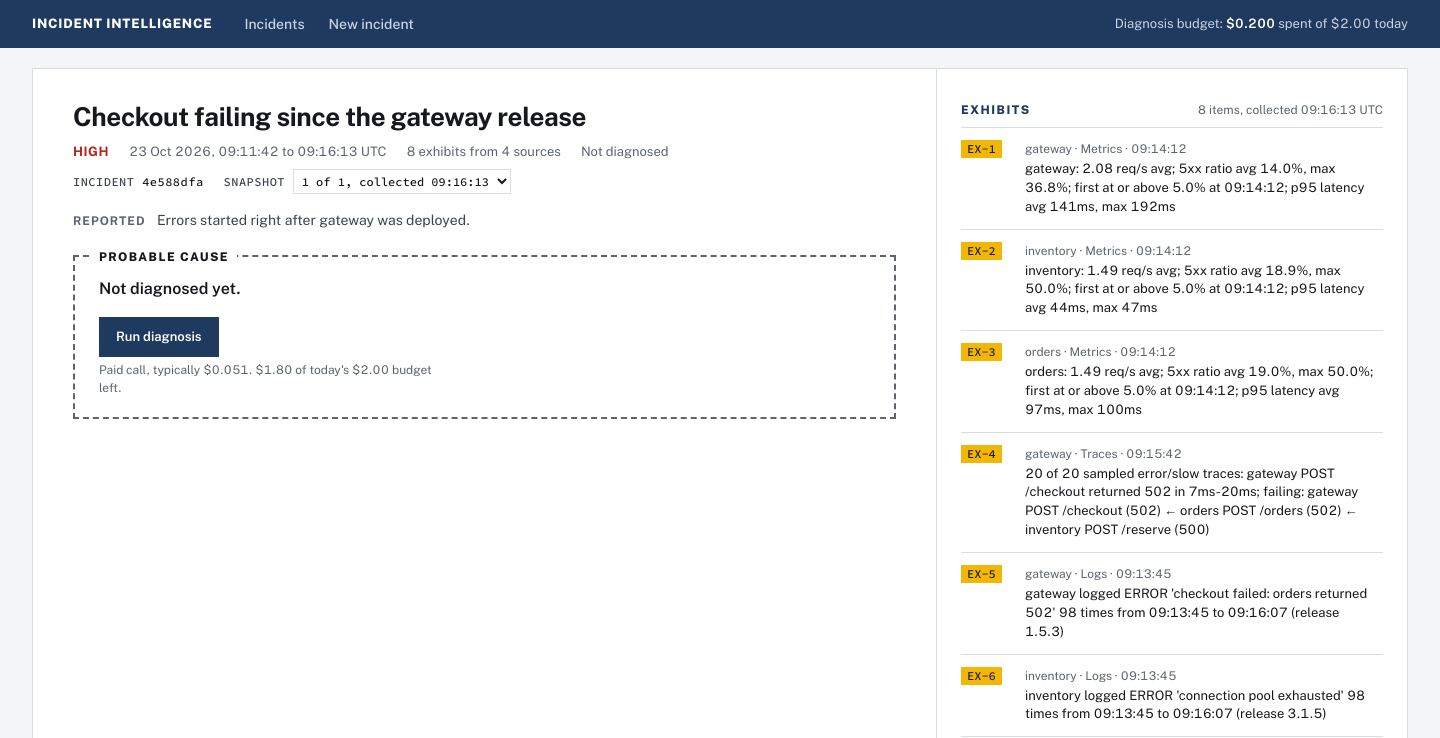
Test: running a diagnosis › shows the new diagnosis when the run finishes
Click the button "Run diagnosis" at (159, 337), box [99,317,219,356]
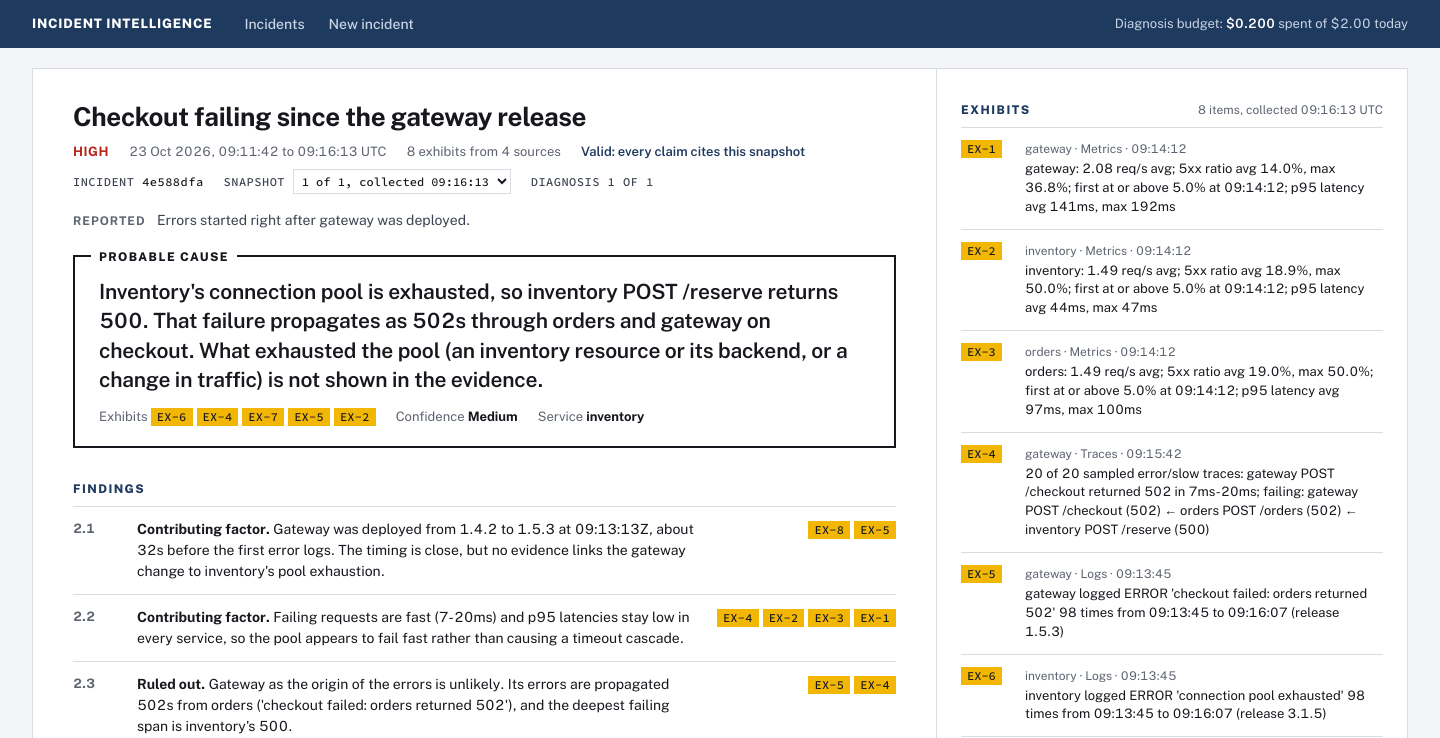
Check: the text "connection pool is exhausted" is shown, box [99,279,848,392]
